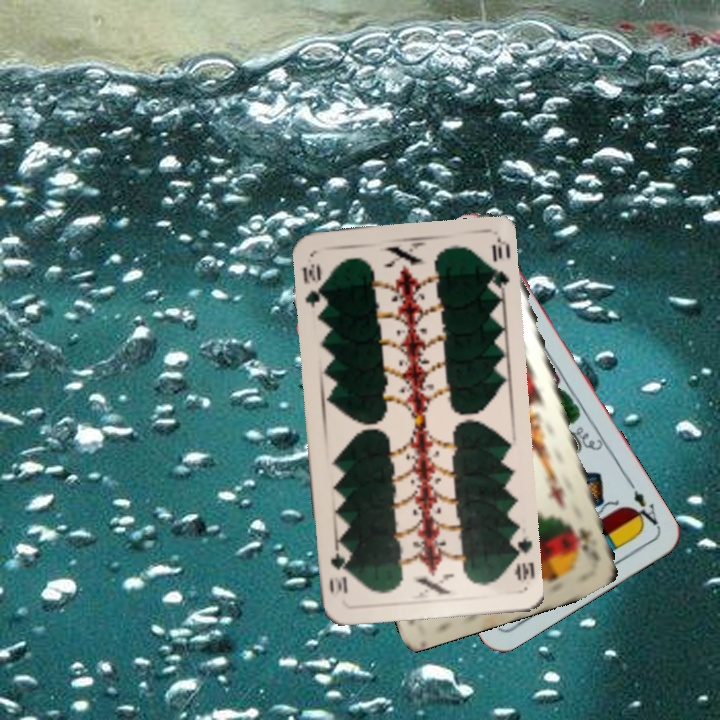EA: (625, 485, 662, 530)
G10: (506, 528, 536, 584), (298, 259, 328, 311)
SK: (566, 516, 594, 558)
